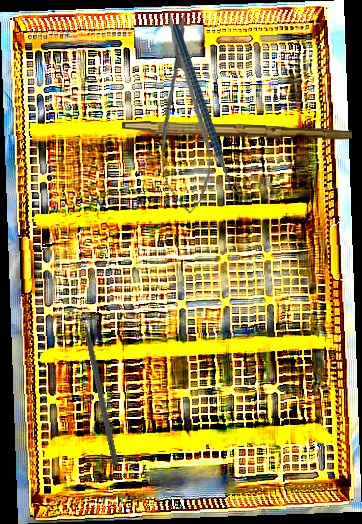Chopper: (173, 25, 246, 199)
Hook Surgical: (79, 305, 121, 467)
Micro Scissor: (150, 12, 217, 216)
Scalpel Handle: (121, 120, 353, 142)
